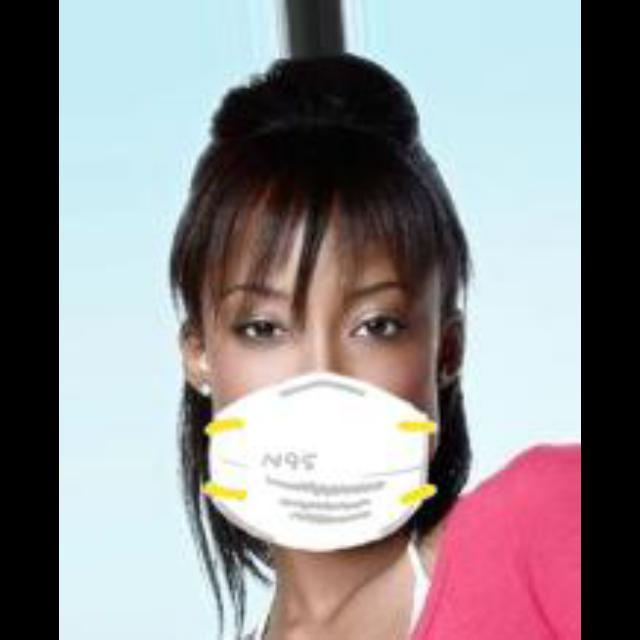suspicion: (164, 123, 506, 545)
